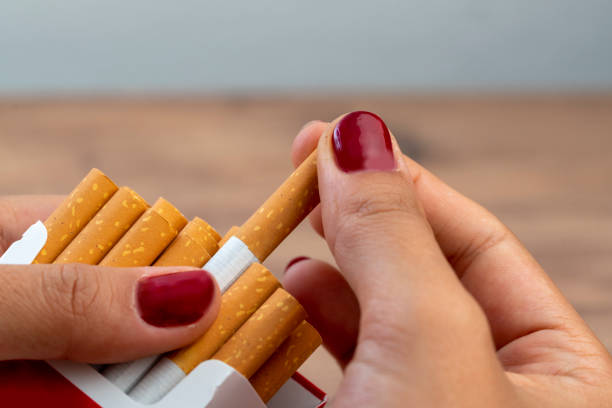cigarette: (0, 218, 328, 408), (100, 145, 318, 391), (126, 263, 285, 404), (208, 286, 311, 380), (28, 165, 120, 266), (50, 185, 152, 266), (95, 195, 190, 266), (248, 318, 324, 402), (152, 214, 223, 267)
